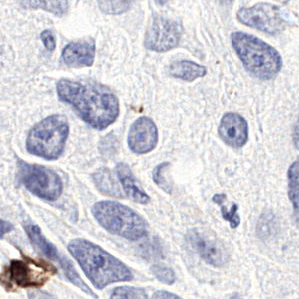Lymphocyte: (7, 259, 32, 287)
